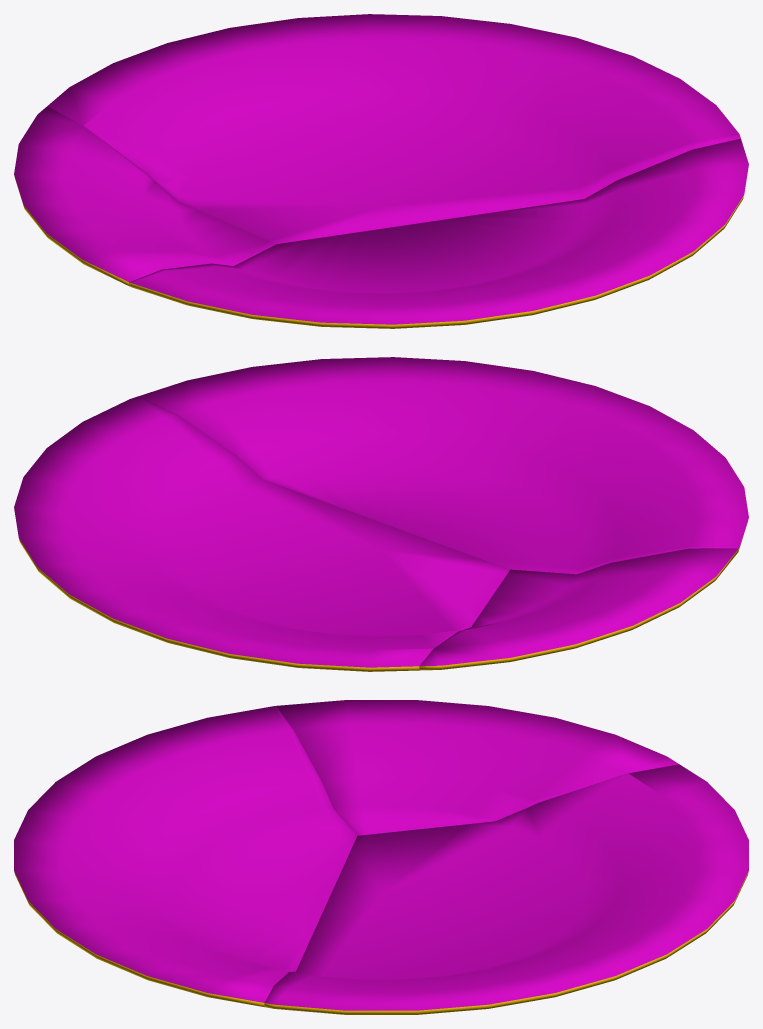
File: sh_plate_a002.fbx
3 renders of one model, top to bottom at view 1: azimuth 30°, elevation 25°; view 2: azimuth 150°, elevation 25°; view 3: azimuth 270°, elevation 25°, orthographic.
Visible parts, largest first — view 1: shard_plate_a_mesh.001, shard_plate_a_mesh, shard_plate_a_mesh.002; view 2: shard_plate_a_mesh, shard_plate_a_mesh.001, shard_plate_a_mesh.002; view 3: shard_plate_a_mesh.001, shard_plate_a_mesh, shard_plate_a_mesh.002.
Boxes of the visible parts, x1,y1,x2,y2 form: shard_plate_a_mesh.001: [47, 14, 740, 243]; shard_plate_a_mesh: [129, 138, 748, 328]; shard_plate_a_mesh.002: [14, 106, 276, 286]; shard_plate_a_mesh: [139, 357, 748, 574]; shard_plate_a_mesh.001: [14, 396, 509, 671]; shard_plate_a_mesh.002: [419, 548, 738, 670]; shard_plate_a_mesh.001: [264, 764, 748, 1014]; shard_plate_a_mesh: [14, 706, 356, 1006]; shard_plate_a_mesh.002: [276, 700, 678, 835].
Size of the model in its own units: 21.17 by 1.41 by 21.17.
